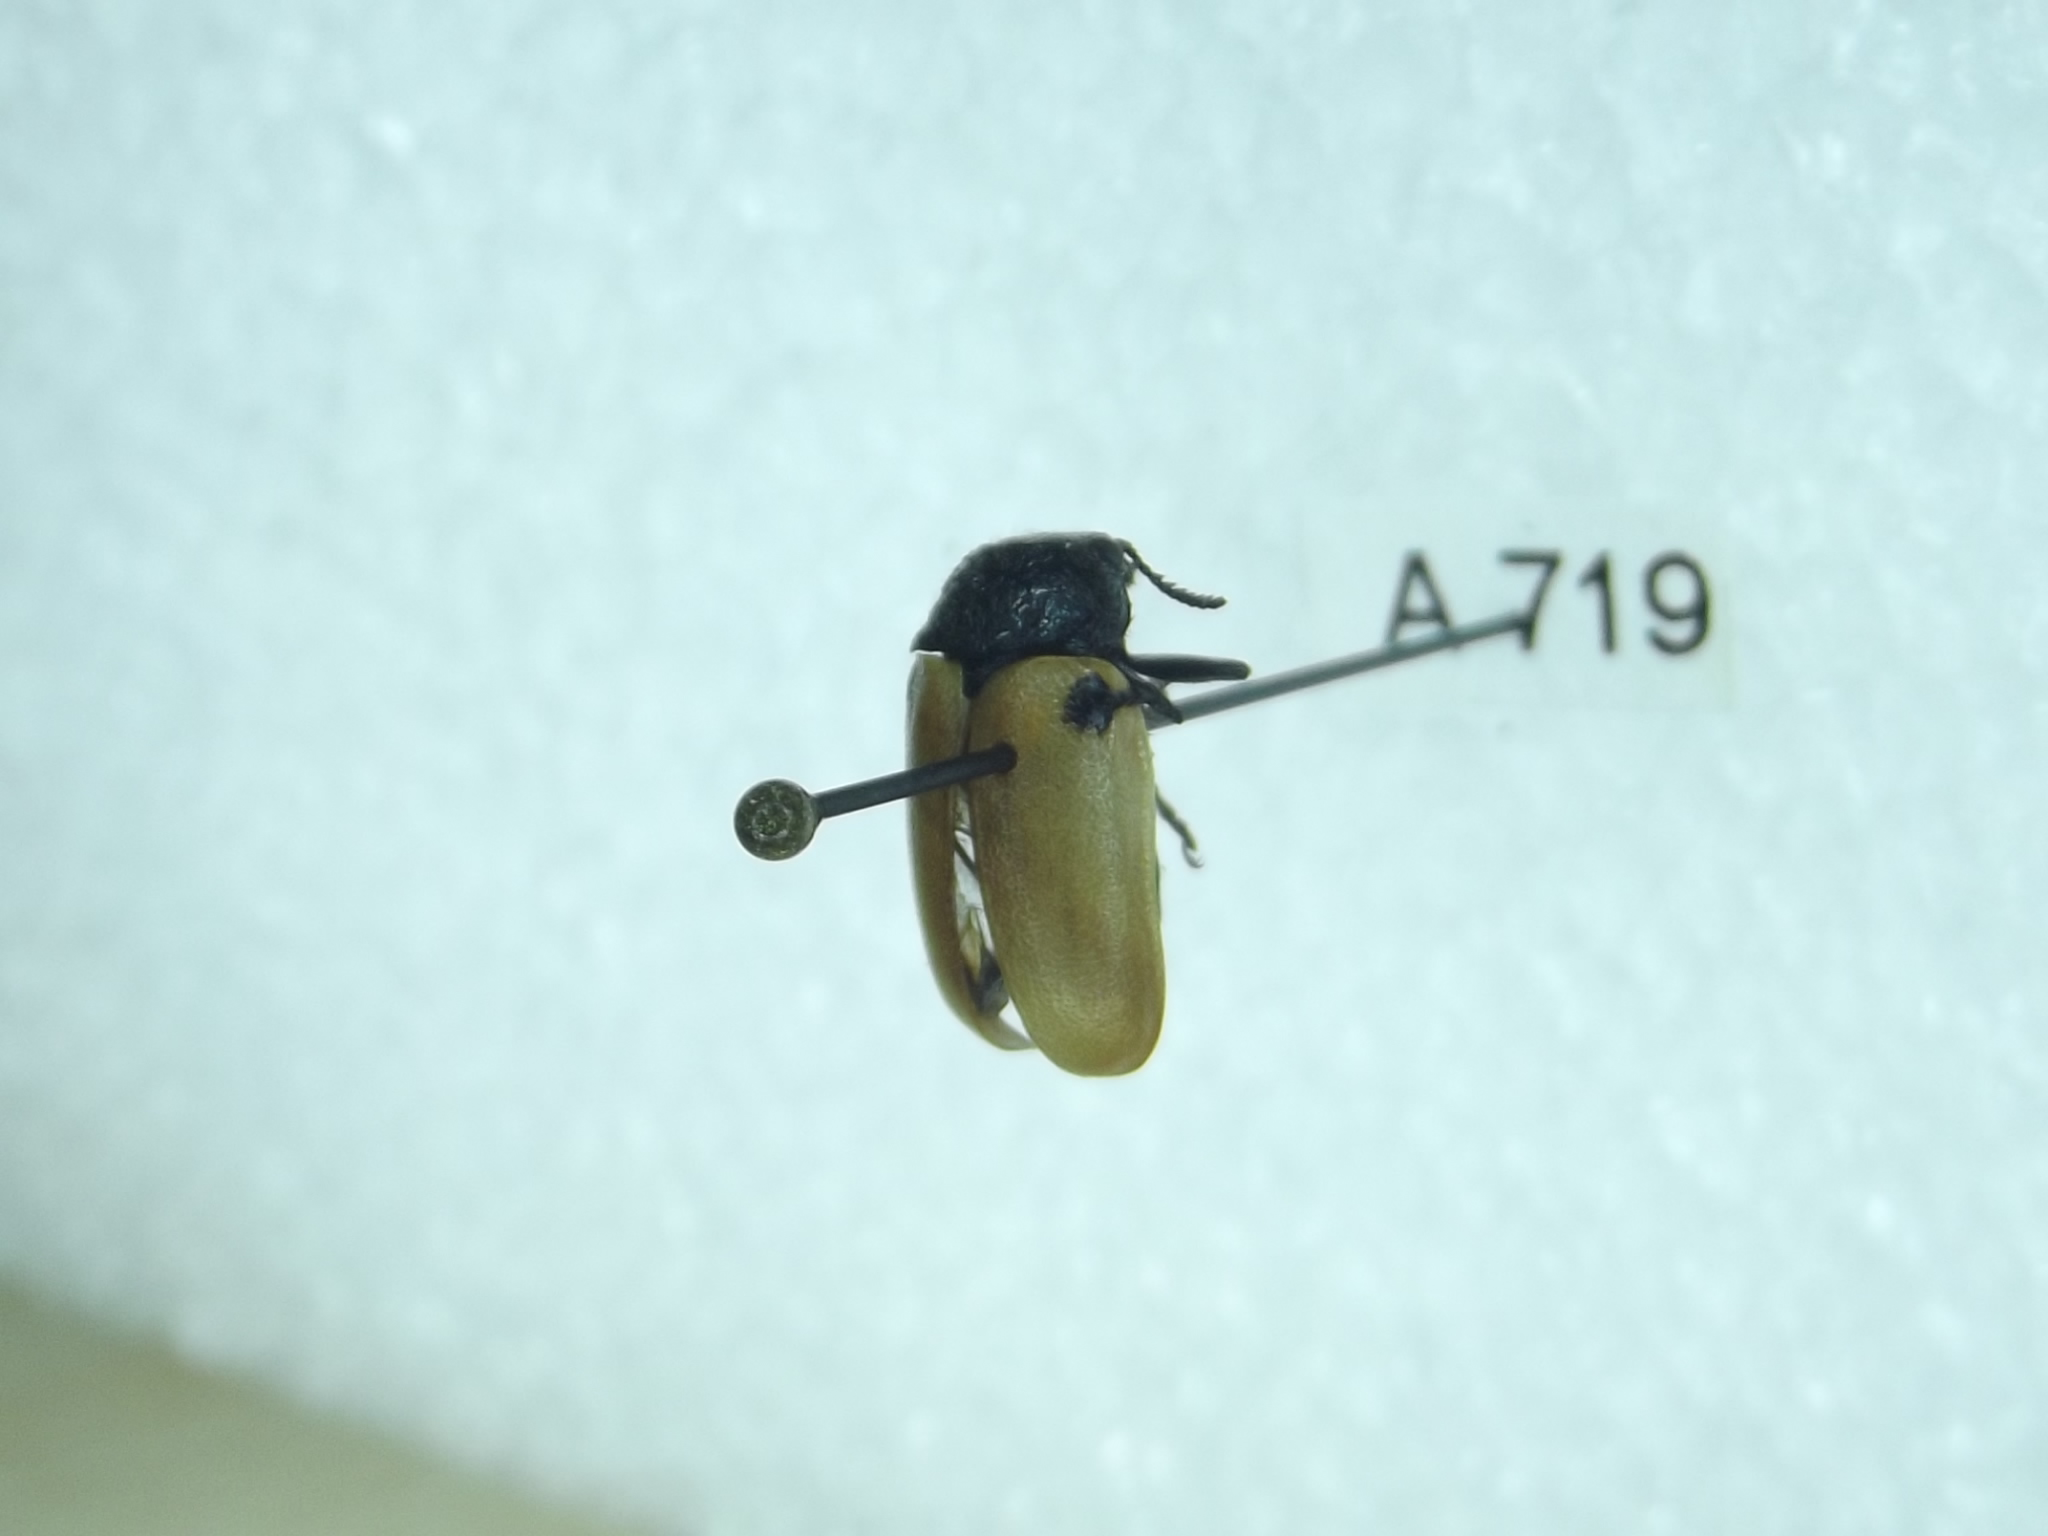Labidostomis_propinqua: (861, 503, 1253, 1110)
